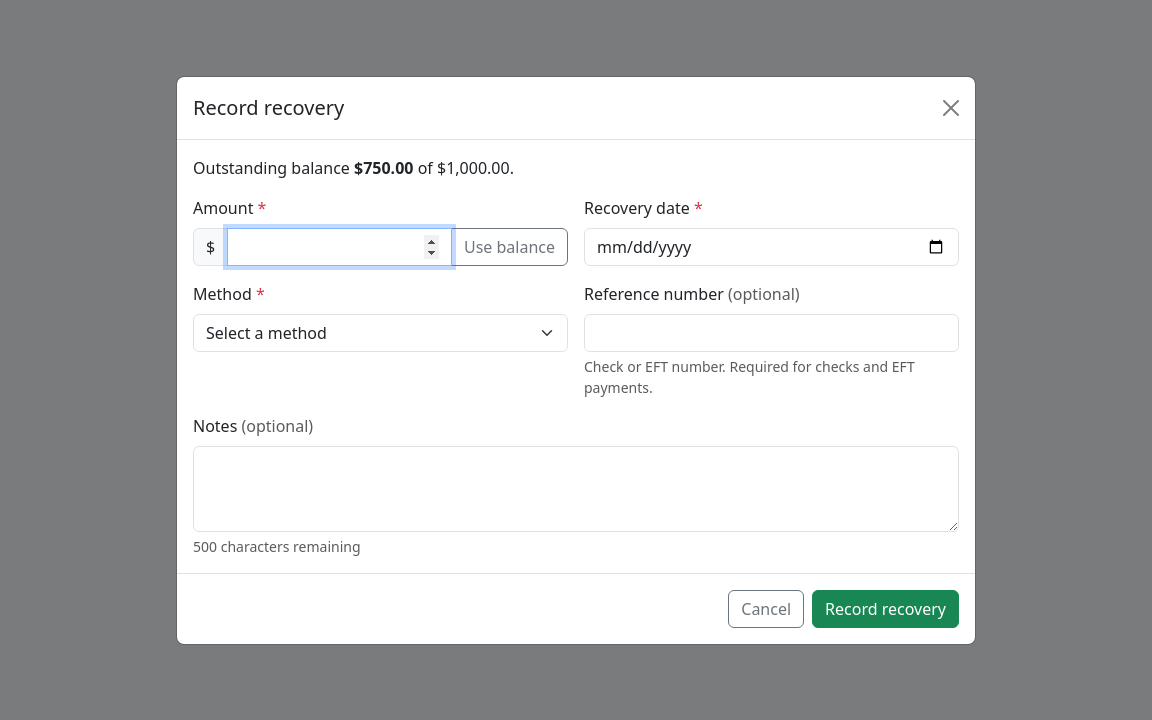
Test: RecordRecoveryDialogComponent › recovery date › is required
Clear the date field with id "recovery-date" at (772, 246), box [584,228,959,266]
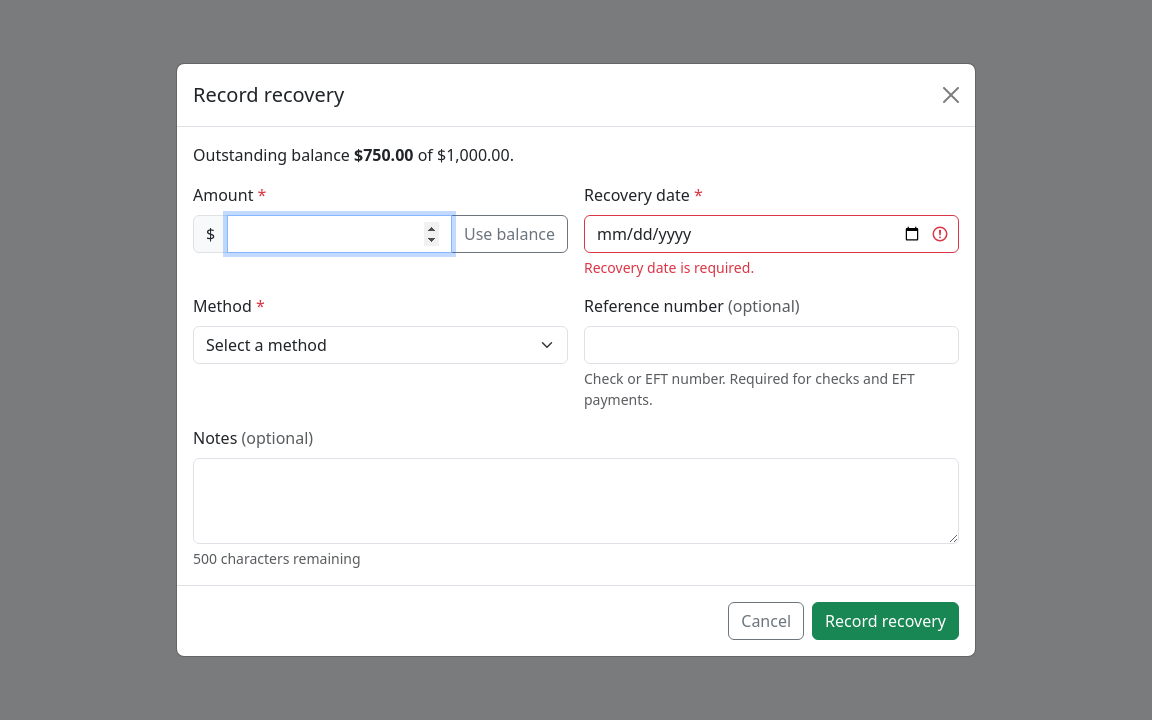
expect the text "Recovery date is required." is shown: met, box [584,258,754,277]
